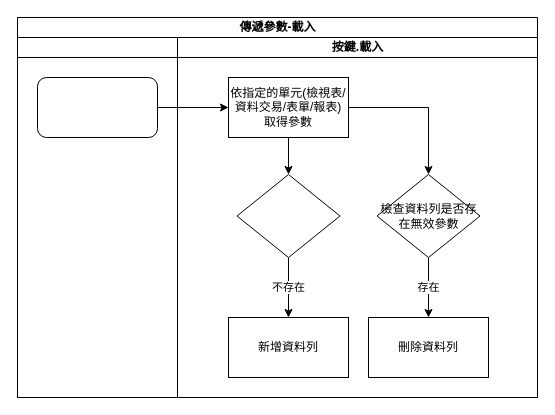
Image size: 555x415. Some labels were removed from this diagram. Each missing label, with the box of its shape:
專案使用者: (16, 36, 178, 398)
檢查參數是否存在資料列: (236, 174, 340, 258)
點擊按鍵.載入: (36, 76, 158, 138)
